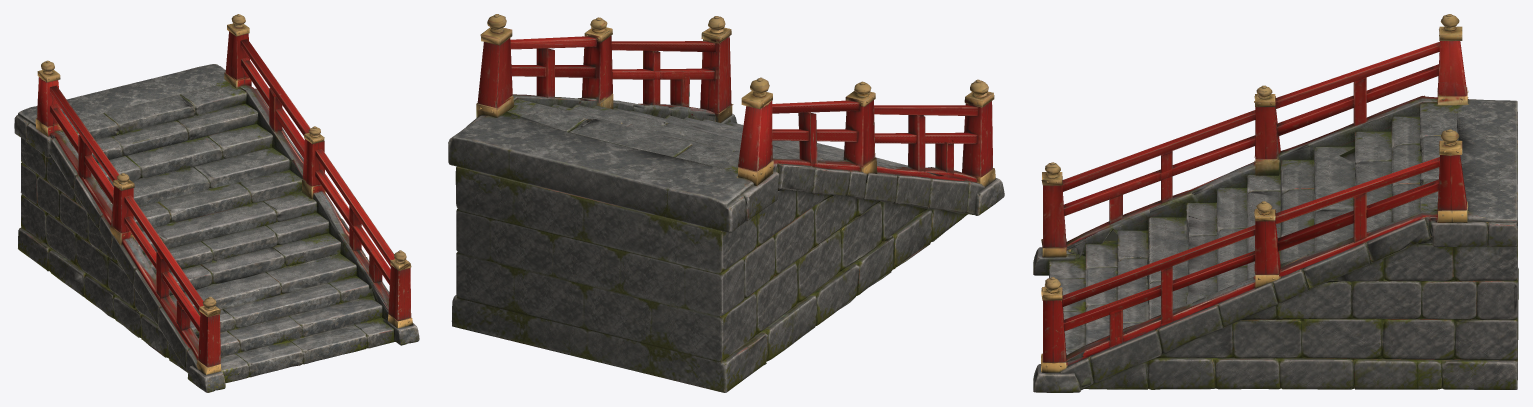
Rendered from Meshy_AI_Crimson_Temple_Steps_20261118_texture.fbx.
3 renders of one model, left to right at view 1: azimuth 30°, elevation 25°; view 2: azimuth 150°, elevation 25°; view 3: azimuth 270°, elevation 25°, orthographic. The views are drawn at different scales.
Parts seen in each view (by area): view 1: Mesh_0; view 2: Mesh_0; view 3: Mesh_0.
Part boxes in pixels (<box>): Mesh_0: <box>14,14,419,392</box>; Mesh_0: <box>448,14,1004,392</box>; Mesh_0: <box>1033,14,1518,392</box>.
Bounding box in the file's own units: 60.11 × 55.86 × 95.46.
Materials: 1 (1 with a texture image).
